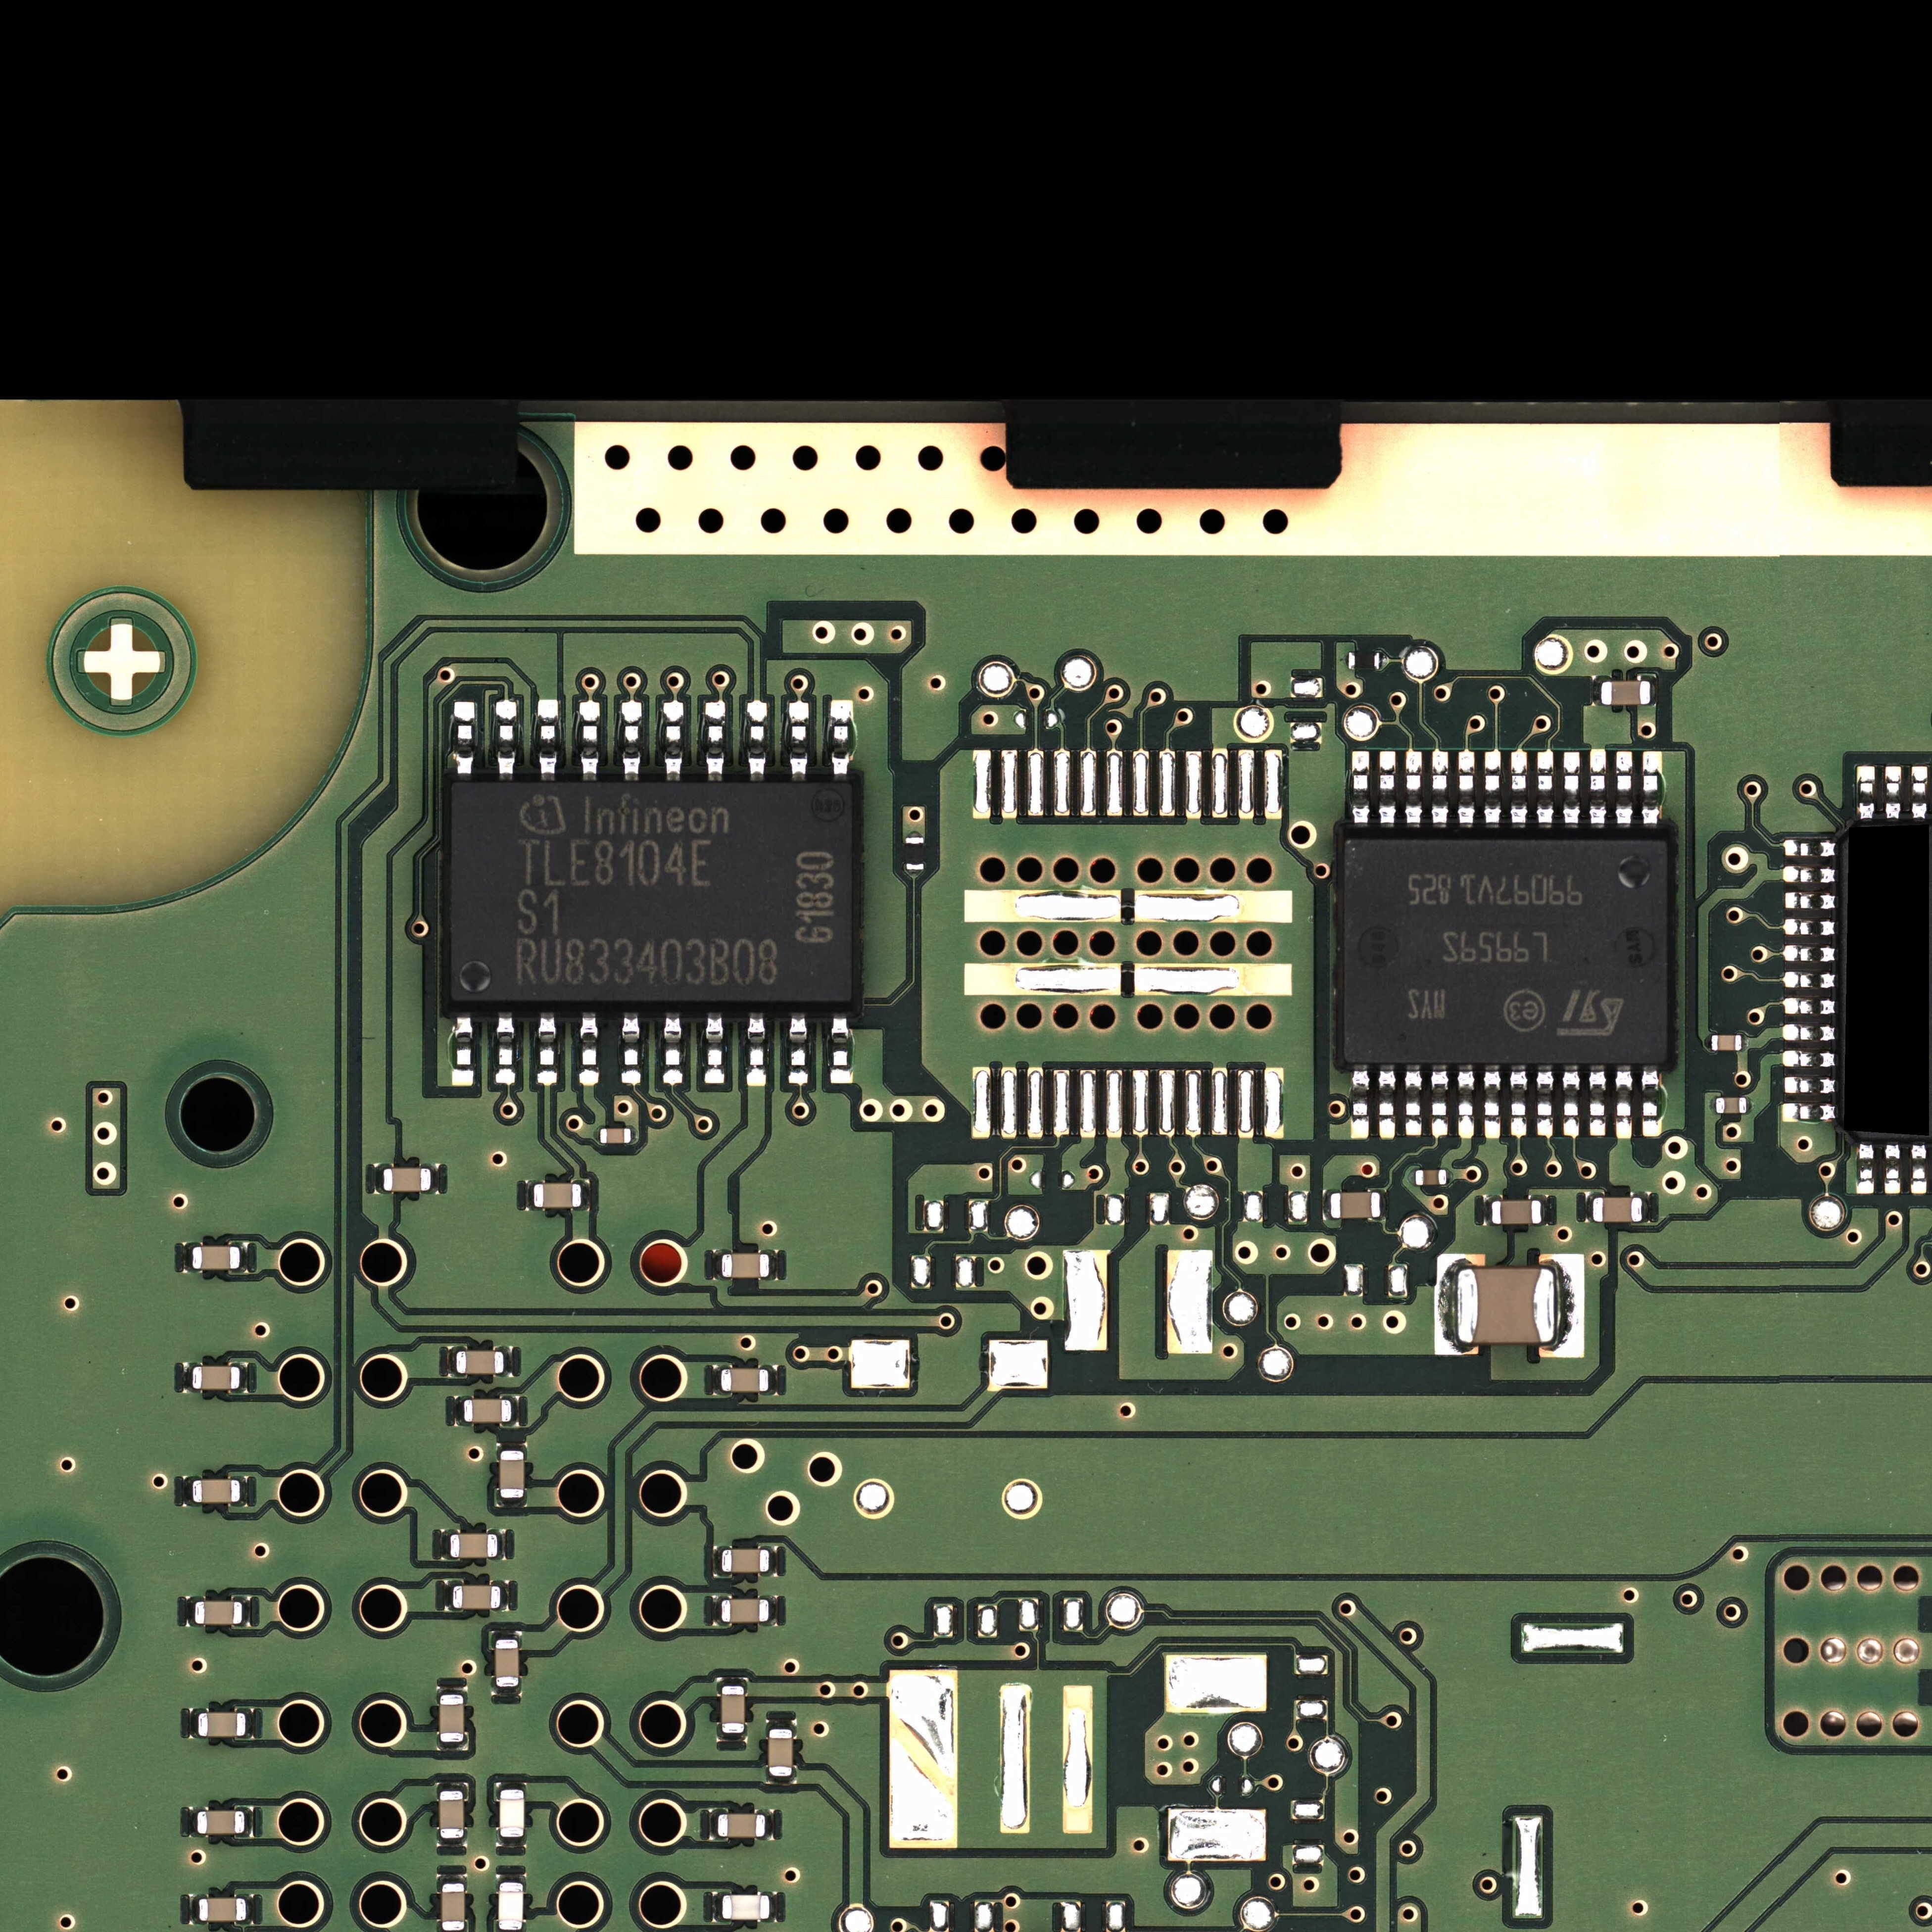Package: (448, 780, 853, 1005), (1346, 839, 1668, 1065), (1456, 1269, 1557, 1346), (1330, 1192, 1380, 1219), (1601, 681, 1651, 706), (1592, 1198, 1642, 1223), (1491, 1200, 1541, 1224), (718, 1813, 766, 1838), (193, 1479, 241, 1504), (768, 1729, 793, 1776), (499, 1451, 524, 1499), (722, 1368, 770, 1392), (193, 1366, 241, 1391), (384, 1168, 432, 1192), (193, 1246, 241, 1270), (534, 1184, 582, 1208), (456, 1350, 504, 1375), (722, 1895, 770, 1920), (449, 1534, 497, 1559), (722, 1253, 770, 1277), (196, 1810, 244, 1835), (198, 1713, 246, 1737), (439, 1790, 464, 1838), (439, 1695, 464, 1743), (499, 1882, 524, 1930), (499, 1790, 524, 1836), (441, 1884, 465, 1930), (195, 1601, 242, 1624), (464, 1399, 511, 1422), (722, 1550, 770, 1573), (453, 1585, 501, 1608), (722, 1599, 770, 1622), (198, 1898, 246, 1921), (722, 1686, 745, 1734), (495, 1640, 518, 1686), (906, 837, 924, 870), (1348, 653, 1380, 669), (1716, 1097, 1746, 1113), (1415, 1169, 1445, 1185), (1711, 1035, 1741, 1051), (600, 1129, 630, 1143)
Solder: (1557, 1254, 1583, 1357), (1435, 1254, 1456, 1355), (830, 699, 853, 780), (453, 701, 476, 780), (495, 701, 517, 780), (830, 1012, 853, 1085), (747, 701, 766, 782), (453, 1012, 474, 1086), (706, 701, 725, 780), (580, 701, 600, 780), (789, 701, 809, 780), (538, 701, 557, 780), (663, 701, 683, 780), (787, 1012, 809, 1085), (747, 1012, 766, 1088), (538, 1012, 557, 1086), (495, 1012, 515, 1086), (579, 1012, 598, 1086), (623, 701, 640, 782), (621, 1012, 640, 1085), (663, 1012, 683, 1085), (704, 1012, 724, 1085), (1642, 1065, 1661, 1138), (1352, 750, 1369, 828), (1589, 750, 1606, 828), (1405, 750, 1422, 826), (1378, 752, 1396, 828), (1352, 1063, 1369, 1139), (1642, 752, 1660, 828), (1615, 752, 1633, 828), (1378, 1065, 1396, 1139), (1483, 1065, 1500, 1139), (1615, 1065, 1633, 1139), (1405, 1065, 1422, 1138), (1562, 1065, 1580, 1138), (1536, 1065, 1553, 1138), (1589, 1065, 1606, 1138), (1509, 1065, 1527, 1138), (1431, 1065, 1449, 1138), (1431, 750, 1447, 828), (1484, 752, 1500, 828), (1564, 752, 1580, 828), (1511, 752, 1527, 828), (1537, 752, 1553, 828), (1458, 752, 1474, 828), (1458, 1065, 1474, 1139), (1856, 766, 1875, 819), (1782, 971, 1835, 991), (1783, 1104, 1836, 1122), (1884, 766, 1902, 819), (1911, 766, 1928, 819), (1782, 1077, 1835, 1095), (1782, 1051, 1835, 1069), (1782, 1024, 1835, 1042), (1782, 947, 1835, 964), (1782, 998, 1835, 1016), (1782, 839, 1835, 856), (1783, 865, 1836, 883), (1783, 892, 1836, 909), (1782, 918, 1833, 936), (1911, 1145, 1927, 1194), (1884, 1145, 1900, 1194), (1858, 1145, 1874, 1194), (1651, 676, 1661, 708), (453, 1396, 464, 1426), (446, 1346, 456, 1376), (442, 1580, 453, 1610), (180, 1476, 191, 1506), (188, 1709, 198, 1739), (437, 1684, 467, 1695), (244, 1806, 255, 1836), (188, 1895, 198, 1925), (184, 1598, 195, 1628), (439, 1529, 449, 1559), (504, 1346, 515, 1376), (511, 1396, 522, 1426), (766, 1718, 796, 1729), (711, 1891, 722, 1921), (492, 1629, 522, 1640), (373, 1164, 384, 1192), (711, 1251, 722, 1279), (437, 1743, 469, 1752), (495, 1838, 527, 1847), (495, 1499, 527, 1507), (490, 1688, 522, 1697), (711, 1546, 720, 1578), (241, 1362, 249, 1392), (432, 1164, 441, 1194), (182, 1362, 191, 1392), (241, 1242, 249, 1272), (242, 1596, 251, 1626), (246, 1709, 255, 1739), (437, 1838, 467, 1847), (246, 1895, 255, 1925), (437, 1782, 467, 1790), (497, 1530, 506, 1560), (711, 1364, 720, 1394), (582, 1180, 591, 1210), (524, 1180, 533, 1210), (766, 1776, 796, 1785), (717, 1677, 747, 1686), (713, 1596, 722, 1626), (708, 1810, 717, 1840), (437, 1874, 467, 1882), (182, 1244, 191, 1272), (241, 1477, 249, 1506), (188, 1808, 196, 1836), (497, 1442, 525, 1451), (770, 1251, 778, 1279), (501, 1582, 510, 1610), (1592, 676, 1599, 708), (1484, 1194, 1491, 1226), (495, 1875, 527, 1882), (717, 1734, 747, 1741), (766, 1810, 773, 1840), (770, 1596, 777, 1626), (770, 1546, 777, 1576), (1585, 1192, 1592, 1223), (1642, 1192, 1649, 1223), (770, 1366, 777, 1394), (497, 1782, 525, 1789), (770, 1893, 777, 1921), (1382, 1191, 1389, 1219), (1323, 1191, 1330, 1219), (1541, 1196, 1546, 1226), (1707, 1097, 1716, 1115), (1341, 649, 1348, 671), (593, 1125, 600, 1145), (632, 1125, 639, 1145), (1408, 1168, 1415, 1187), (1704, 1033, 1711, 1053), (906, 830, 924, 837), (1746, 1097, 1753, 1115), (1743, 1033, 1750, 1051), (1382, 651, 1387, 671), (1447, 1168, 1453, 1187), (906, 870, 924, 876)
